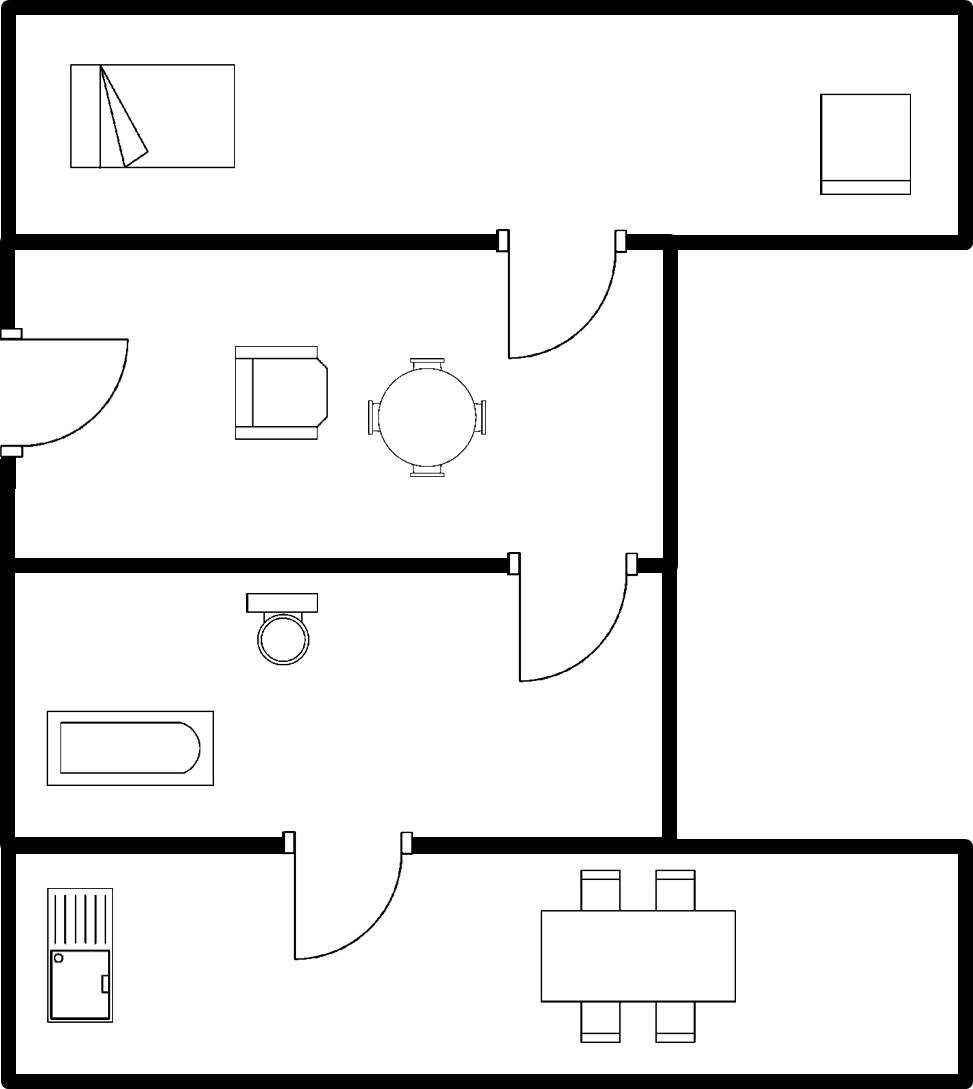armchair: (224, 338, 336, 446)
bed: (62, 57, 241, 175)
dining_table: (532, 862, 748, 1050)
large_sink: (240, 584, 323, 674)
round_table: (362, 349, 497, 484)
sink: (40, 878, 121, 1031)
small_sofa: (814, 85, 918, 202)
tub: (41, 702, 222, 794)
